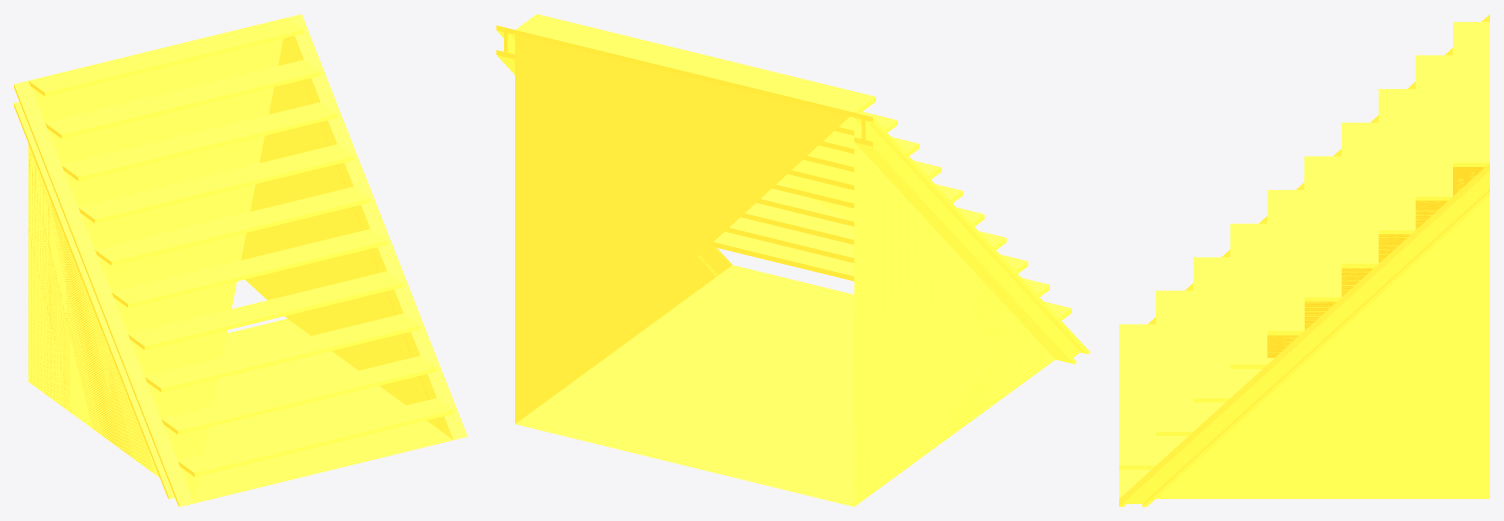
The model's file is ENV_MOD_09_CatwalkStairs.glb.
3 renders of one model, left to right at view 1: azimuth 30°, elevation 25°; view 2: azimuth 150°, elevation 25°; view 3: azimuth 270°, elevation 25°, orthographic. The views are drawn at different scales.
Visible parts, largest first — view 1: SM_ENV_MOD_09_CatwalkStairs; view 2: SM_ENV_MOD_09_CatwalkStairs; view 3: SM_ENV_MOD_09_CatwalkStairs.
Part boxes in pixels (x1,y1,x2,y2): SM_ENV_MOD_09_CatwalkStairs: (14, 14, 467, 506); SM_ENV_MOD_09_CatwalkStairs: (496, 14, 1090, 506); SM_ENV_MOD_09_CatwalkStairs: (1119, 14, 1489, 506).
Size of the model in its own units: 4 by 4 by 4.
